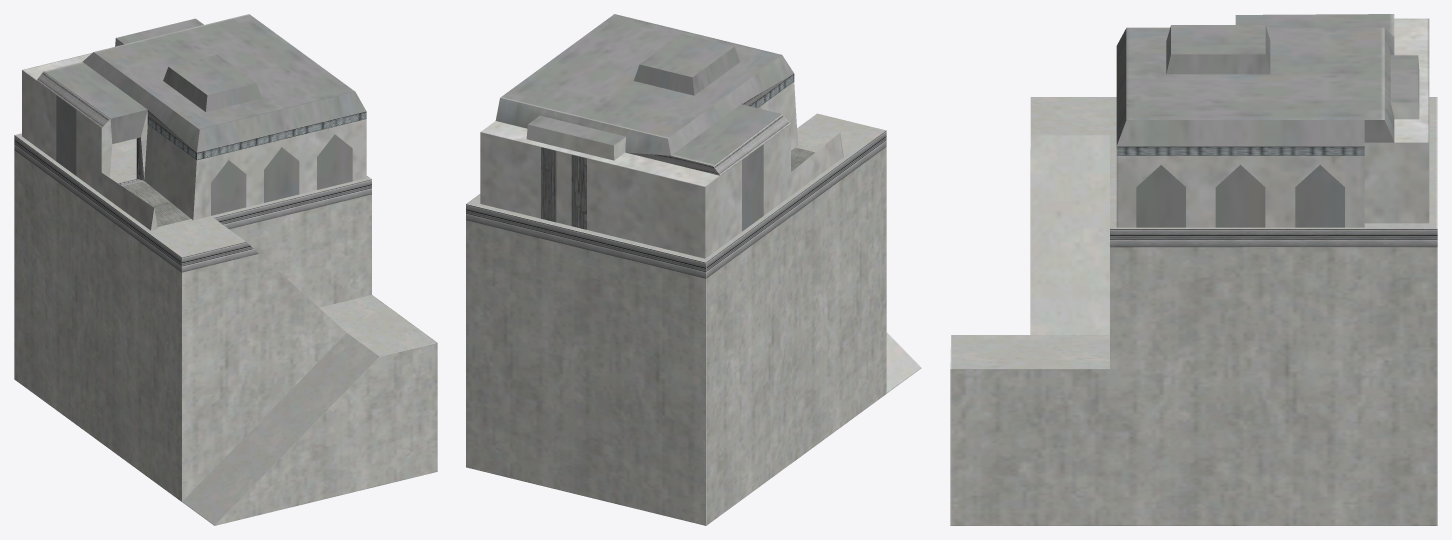
Rendered from ply_corl_house_sm_s01_fp2_r0_exterior_mesh_l2.fbx.
3 renders of one model, left to right at view 1: azimuth 30°, elevation 25°; view 2: azimuth 150°, elevation 25°; view 3: azimuth 270°, elevation 25°, orthographic. The views are drawn at different scales.
Visible parts, largest first — view 1: mesh_node; view 2: mesh_node; view 3: mesh_node.
Boxes of the visible parts, bbox=[...] form: mesh_node: bbox=[14, 14, 437, 525]; mesh_node: bbox=[466, 14, 921, 525]; mesh_node: bbox=[950, 14, 1437, 525].
Size of the model in its own units: 15.74 by 23.24 by 24.55.
Materials: 2 (2 with a texture image).
